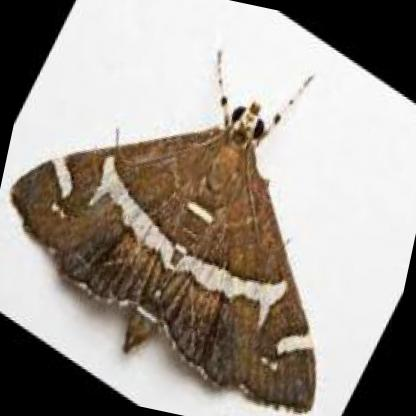Leaf Webber: (12, 92, 313, 416)
